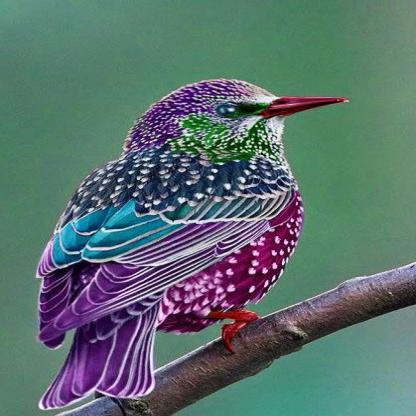bird: (1, 74, 411, 406)
